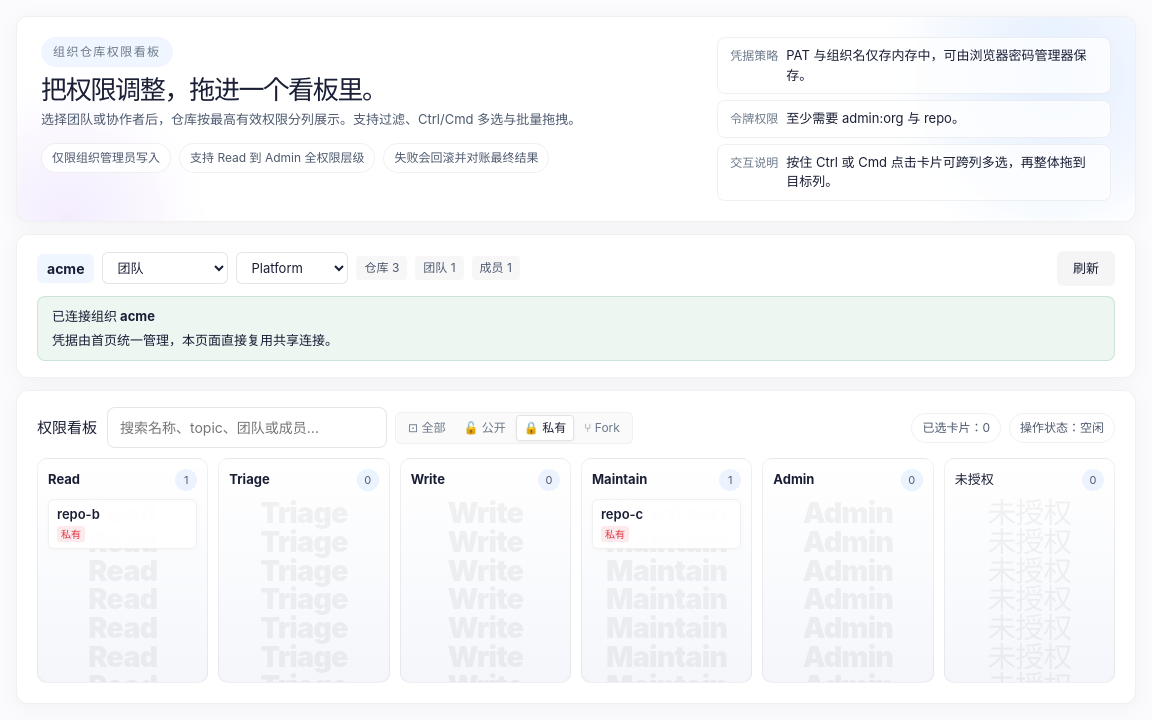
Test: App › filters repositories with preset buttons
The width and height of the screenshot is (1152, 720).
Check: the element with test id "column-pull" shows "repo-b", box [48,499,197,548]
// Switch to "全部" for full filter testing
Click the button "⊡ 全部" at (427, 428), box [400,414,454,440]
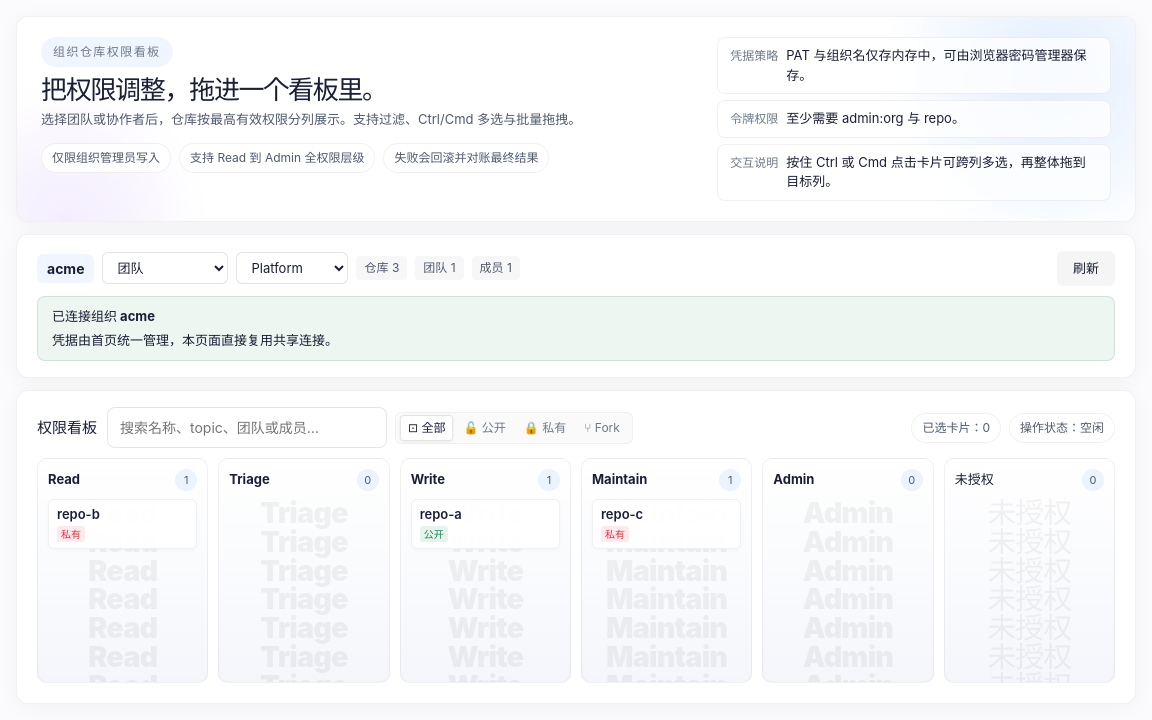
Check: the element with test id "column-push" shows "repo-a", box [411,499,560,548]
Click the button "🔓 公开" at (485, 428), box [456,414,514,440]
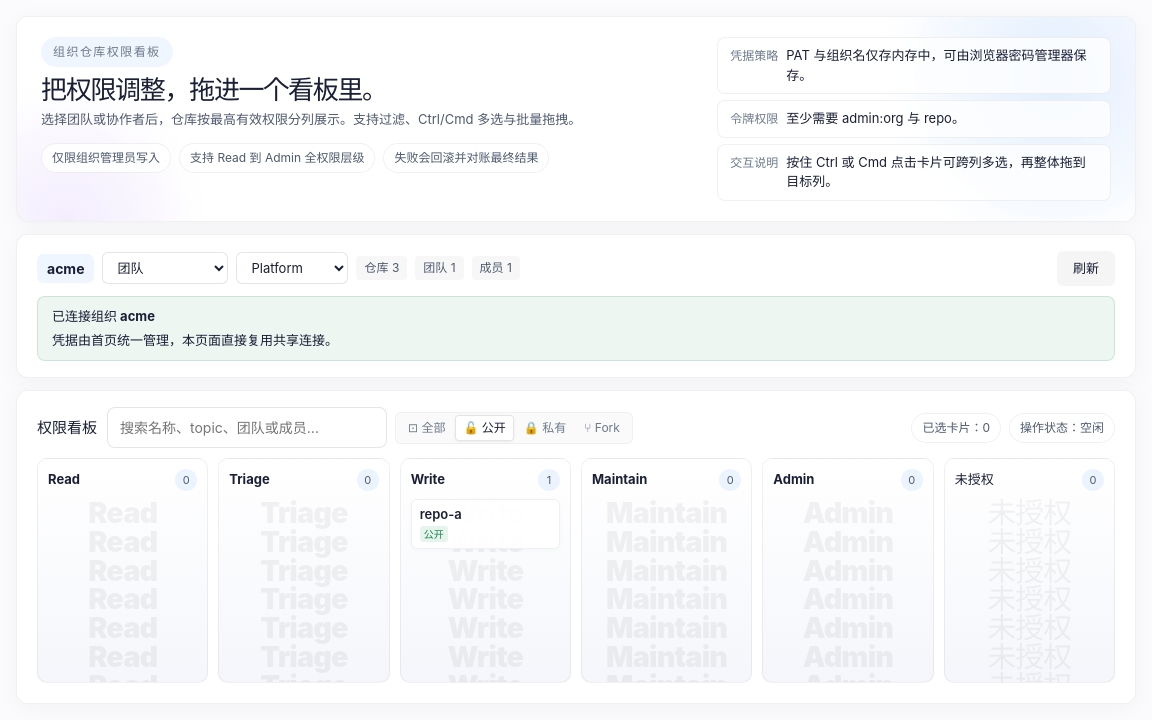
Check: the element with test id "column-push" shows "repo-a", box [411,499,560,548]
Check: the element with test id "column-pull" no longer shows "repo-b", box [37,458,208,683]
Check: the element with test id "column-maintain" no longer shows "repo-c", box [581,458,752,683]
Click the button "⑂ Fork" at (602, 428), box [576,414,628,440]
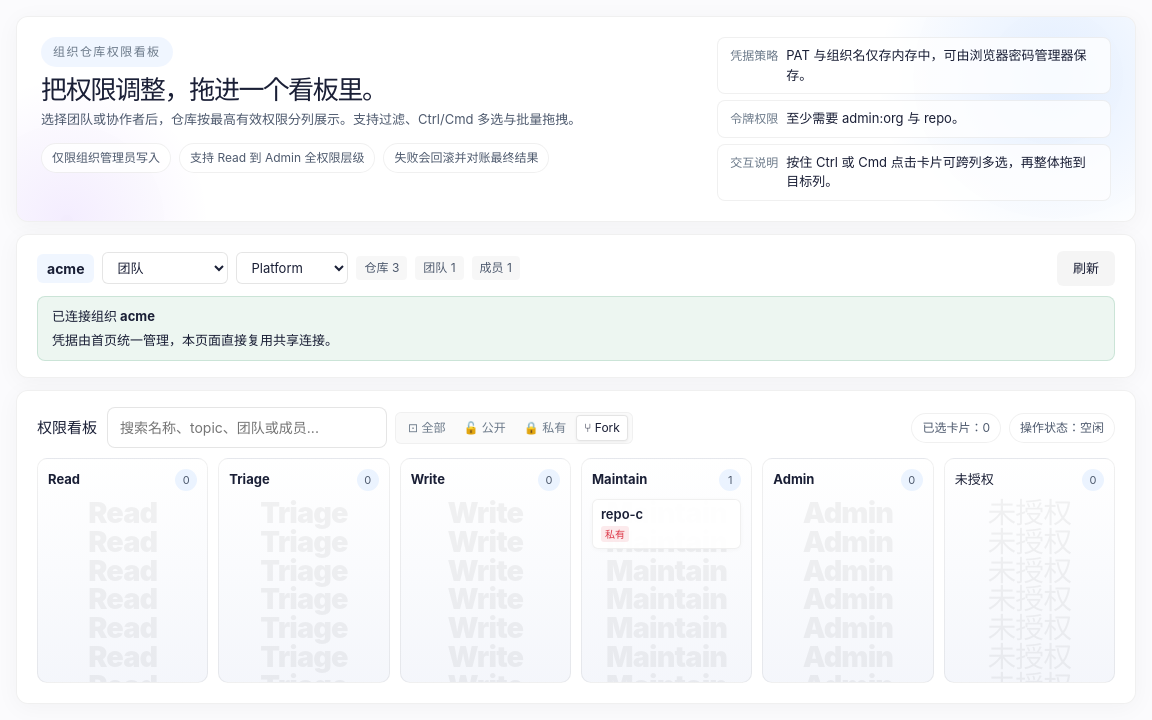
Check: the element with test id "column-maintain" shows "repo-c", box [592,499,741,548]
Check: the element with test id "column-push" no longer shows "repo-a", box [400,458,571,683]
